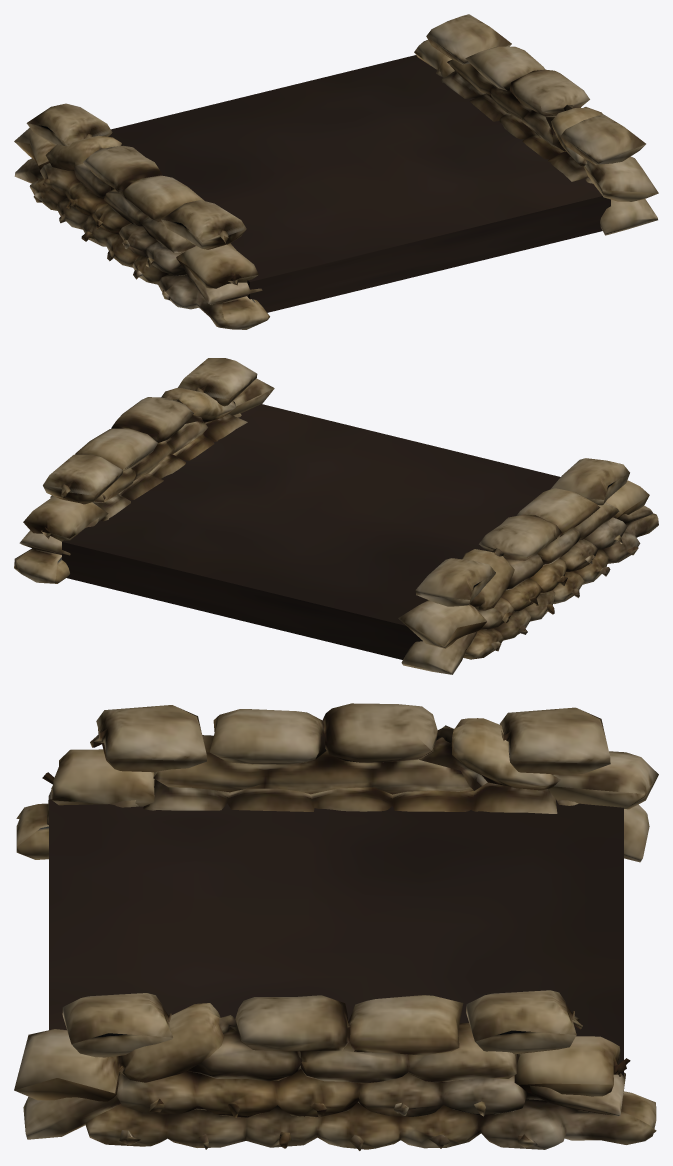
3 renders of one model, top to bottom at view 1: azimuth 30°, elevation 25°; view 2: azimuth 150°, elevation 25°; view 3: azimuth 270°, elevation 25°, orthographic. The views are drawn at different scales.
Parts seen in each view (by area): view 1: Cube_Cube.000, sandbags_01.009, sandbags_01.008; view 2: Cube_Cube.000, sandbags_01.009, sandbags_01.008; view 3: Cube_Cube.000, sandbags_01.008, sandbags_01.009.
Part boxes in pixels (left/top/right/bottom): Cube_Cube.000: left=109, top=55, right=610, bottom=312; sandbags_01.009: left=14, top=103, right=269, bottom=329; sandbags_01.008: left=414, top=14, right=658, bottom=235; Cube_Cube.000: left=62, top=404, right=560, bottom=659; sandbags_01.009: left=398, top=458, right=658, bottom=674; sandbags_01.008: left=14, top=358, right=274, bottom=583; Cube_Cube.000: left=49, top=799, right=623, bottom=1075; sandbags_01.008: left=14, top=990, right=656, bottom=1150; sandbags_01.009: left=16, top=703, right=658, bottom=862.
Size of the model in its own units: 6.34 by 1.15 by 4.94.
